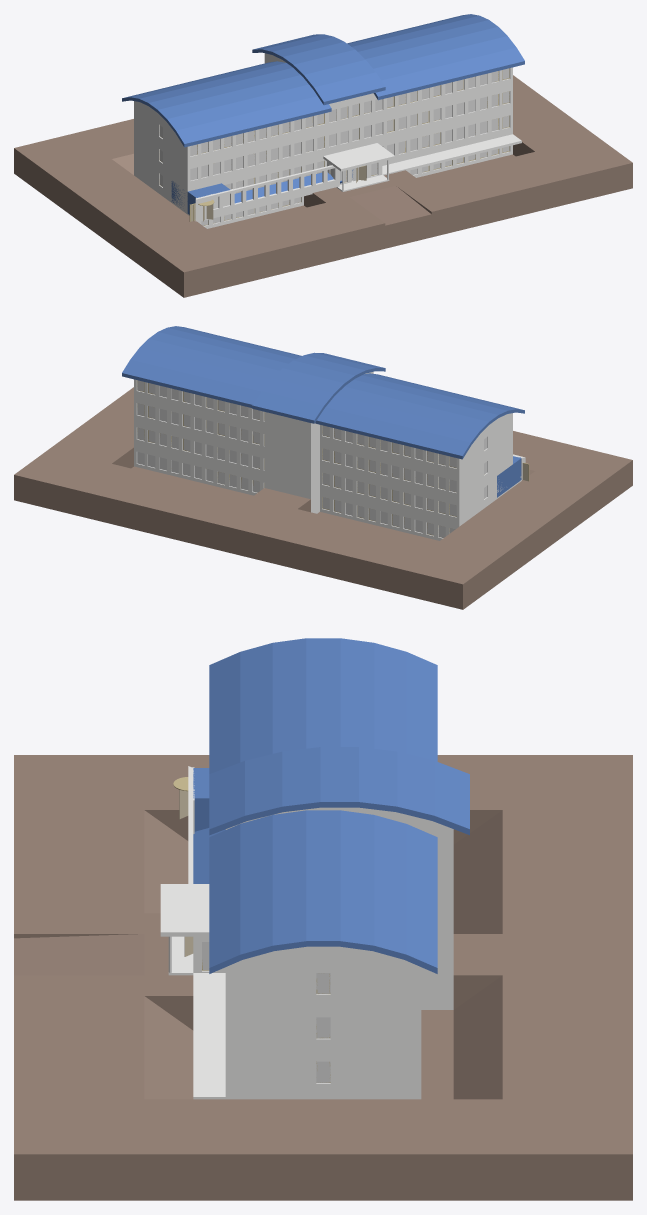
The model's file is buildingbim.fbx.
3 views of the same model, one above another, from view 1: azimuth 30°, elevation 25°; view 2: azimuth 150°, elevation 25°; view 3: azimuth 270°, elevation 25° (orthographic). The views are drawn at different scales.
Parts seen in each view (by area): view 1: IfcSite/Gelaende 0815, IfcWallStandardCase/Wand-010.002, IfcWallStandardCase/Wand-010.001, IfcSlab/Dach-001.005, IfcSlab/Dach-001.020, IfcWallType/Kalksandstein 2816491304 300, IfcSlab/Decke-001.001, IfcSlab/Dach-001.004, IfcWallStandardCase/Wand-008, IfcSlab/Dach-001.018, IfcSlabType/Stahlbeton 2747937872 300, IfcSlab/Dach-001.003 (+21 smaller); view 2: IfcSite/Gelaende 0815, IfcSlab/Dach-001.019, IfcSlab/Dach-001.013, IfcWallStandardCase/Wand-002.004, IfcWallStandardCase/Wand-002.003, IfcWallStandardCase/Wand-006.003, IfcWallStandardCase/Wand-006.002, IfcSlab/Dach-001, IfcSlab/Dach-001.014, IfcWallStandardCase/Wand-002.001, IfcSlab/Dach-001.001, IfcWallStandardCase/Wand-006.004 (+24 smaller); view 3: IfcSite/Gelaende 0815, IfcWallStandardCase/Wand-007.002, IfcWallStandardCase/Wand-007.003, IfcWallStandardCase/Wand-007.001, IfcSlab/Dach-001.016, IfcSlab/Dach-001.015, IfcSlab/Dach-001.017, IfcSlab/Dach-001.014, IfcSlab/Dach-001.018, IfcSlab/Dach-001.013, IfcSlab/Dach-001.020, IfcSlabType/Stahlbeton 2747937872 300 (+23 smaller).
Part boxes in pixels (bbox=[...]): IfcSite/Gelaende 0815: bbox=[14, 75, 632, 297]; IfcWallStandardCase/Wand-010.002: bbox=[187, 88, 512, 188]; IfcWallStandardCase/Wand-010.001: bbox=[187, 67, 512, 164]; IfcSlab/Dach-001.005: bbox=[175, 96, 331, 147]; IfcSlab/Dach-001.020: bbox=[373, 47, 524, 100]; IfcWallType/Kalksandstein 2816491304 300: bbox=[197, 165, 339, 219]; IfcSlab/Decke-001.001: bbox=[134, 110, 512, 191]; IfcSlab/Dach-001.004: bbox=[166, 84, 317, 132]; IfcWallStandardCase/Wand-008: bbox=[380, 112, 512, 165]; IfcSlab/Dach-001.018: bbox=[373, 36, 516, 80]; IfcSlabType/Stahlbeton 2747937872 300: bbox=[143, 134, 521, 221]; IfcSlab/Dach-001.003: bbox=[157, 75, 308, 121]; IfcSite/Gelaende 0815: bbox=[14, 387, 632, 609]; IfcSlab/Dach-001.019: bbox=[315, 407, 471, 459]; IfcSlab/Dach-001.013: bbox=[122, 359, 261, 407]; IfcWallStandardCase/Wand-002.004: bbox=[320, 469, 459, 525]; IfcWallStandardCase/Wand-002.003: bbox=[320, 445, 459, 500]; IfcWallStandardCase/Wand-006.003: bbox=[134, 400, 264, 453]; IfcWallStandardCase/Wand-006.002: bbox=[134, 424, 264, 477]; IfcSlab/Dach-001: bbox=[326, 396, 480, 444]; IfcSlab/Dach-001.014: bbox=[130, 348, 270, 391]; IfcWallStandardCase/Wand-002.001: bbox=[320, 425, 459, 476]; IfcSlab/Dach-001.001: bbox=[335, 386, 489, 433]; IfcWallStandardCase/Wand-006.004: bbox=[134, 379, 264, 429]; IfcSite/Gelaende 0815: bbox=[14, 755, 632, 1200]; IfcWallStandardCase/Wand-007.002: bbox=[225, 1012, 421, 1052]; IfcWallStandardCase/Wand-007.003: bbox=[225, 968, 421, 1008]; IfcWallStandardCase/Wand-007.001: bbox=[225, 1057, 421, 1096]; IfcSlab/Dach-001.016: bbox=[306, 810, 340, 946]; IfcSlab/Dach-001.015: bbox=[340, 810, 374, 950]; IfcSlab/Dach-001.017: bbox=[272, 810, 306, 950]; IfcSlab/Dach-001.014: bbox=[373, 815, 406, 959]; IfcSlab/Dach-001.018: bbox=[240, 815, 273, 959]; IfcSlab/Dach-001.013: bbox=[404, 824, 437, 973]; IfcSlab/Dach-001.020: bbox=[209, 824, 242, 973]; IfcSlabType/Stahlbeton 2747937872 300: bbox=[193, 973, 387, 1099].
Bounding box in the file's own units: 5800 × 1535 × 3800.
